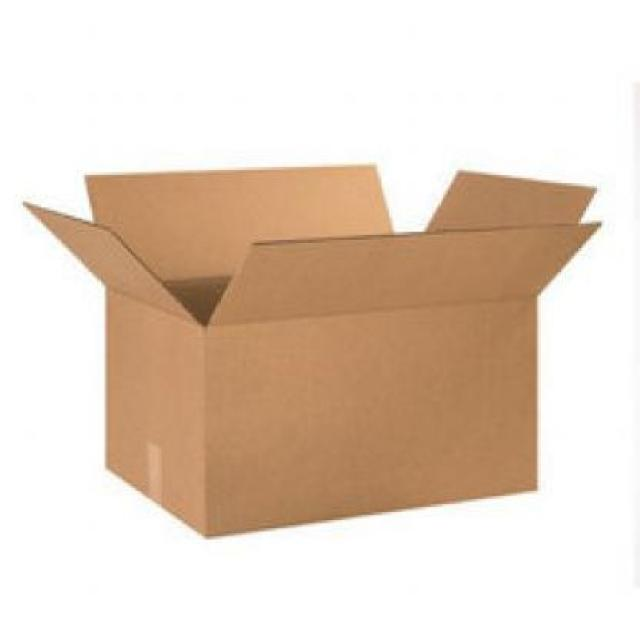box: (15, 140, 612, 550)
